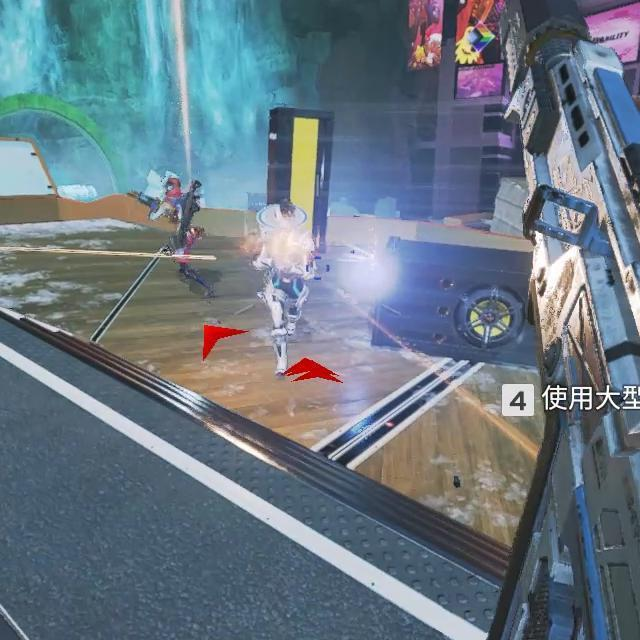avatar: (250, 199, 310, 375), (145, 176, 212, 298)
object: (263, 224, 313, 268)
